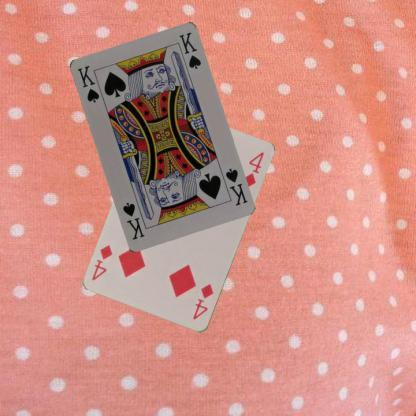4d: (190, 282, 215, 322)
Ks: (222, 165, 249, 207), (74, 62, 100, 104)
